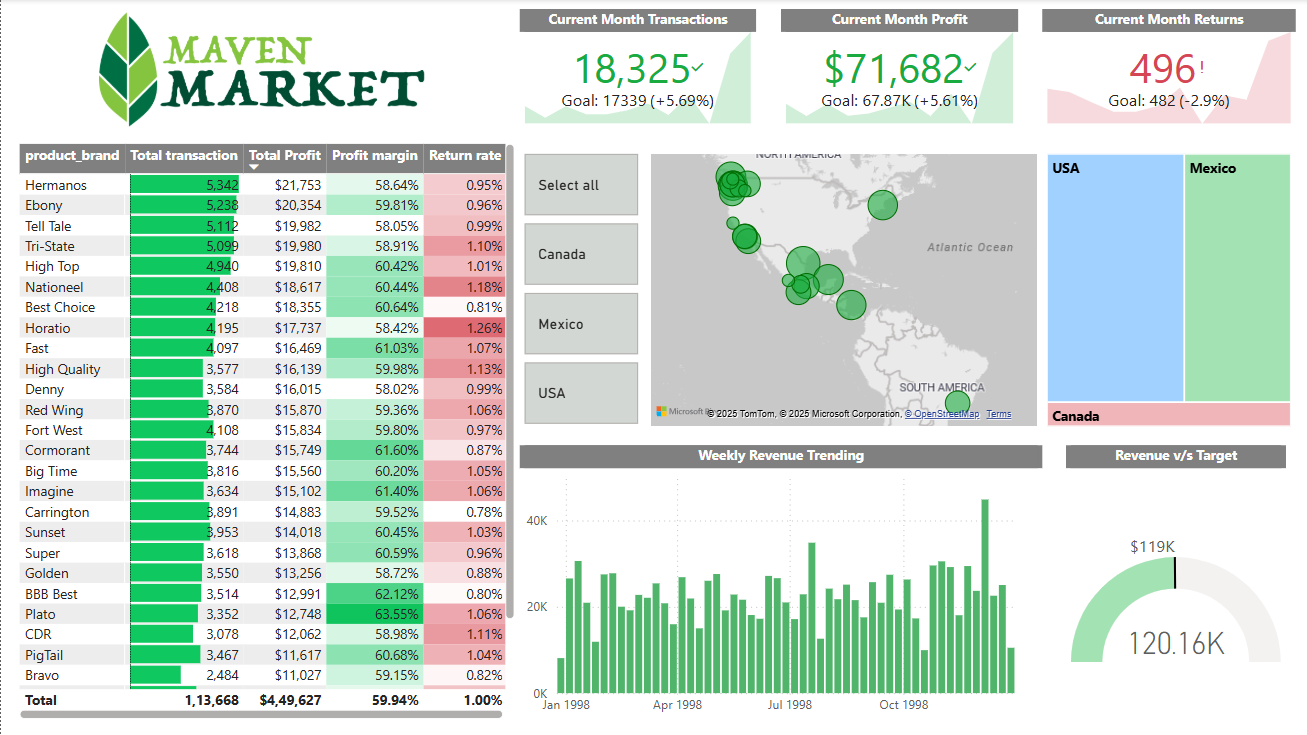

Layout of this report page (visuals, bound fields, positions):
{"tool":"powerbi","page":{"name":"Dashboard","canvas":[1280,720],"ordinal":0},"visuals":[{"type":"pivotTable","fields":{"Rows":["Products.product_brand"],"Values":["Measure(DAX).Total transaction","Measure(DAX).Total Profit","Measure(DAX).Profit margin","Measure(DAX).Return rate"]},"box":[13.5,137,494,572.3],"z":0},{"type":"image","box":[13.5,0,479.4,137],"z":1000},{"type":"kpi","title":"Current Month Transactions ","fields":{"Indicator":["Measure(DAX).Total transaction"],"TrendLine":["Calendar.Start of Month"],"Goal":["Measure(DAX).Last Month Transactions"]},"box":[507.5,9.8,231.1,117.4],"z":2000},{"type":"kpi","title":"Current Month Profit","fields":{"TrendLine":["Calendar.Start of Month"],"Indicator":["Measure(DAX).Total Profit"],"Goal":["Measure(DAX).Last Month Profit"]},"box":[762.4,9.8,232.3,117.4],"z":3000},{"type":"kpi","title":"Current Month Returns","fields":{"TrendLine":["Calendar.Start of Month"],"Indicator":["Measure(DAX).Total Returns"],"Goal":["Measure(DAX).Last Month ReturnsLast Month Returns"]},"box":[1018.6,9.8,248.2,117.4],"z":4000},{"type":"map","title":"Total Transaction by City","fields":{"Size":["Measure(DAX).Total transaction"],"Category":["Stores.store_city"]},"box":[631,146.7,387.6,276.4],"z":5000},{"type":"advancedSlicerVisual","fields":{"Values":["Stores.store_country"]},"box":[507.5,146.7,121.1,276.4],"z":6000},{"type":"treemap","title":"Total Transaction by Country","fields":{"Values":["Measure(DAX).Total transaction"],"Group":["Stores.store_country","Stores.store_state","Stores.store_city"]},"box":[1018.6,146.7,248.2,276.4],"z":7000},{"type":"columnChart","title":"Weekly Revenue Trending","fields":{"Y":["Measure(DAX).Total Revenue"],"Category":["Calendar.Start of Week"]},"box":[507.5,436.6,511.1,272.7],"z":8000},{"type":"gauge","title":"Revenue v/s Target","fields":{"Y":["Measure(DAX).Total Revenue"],"TargetValue":["Measure(DAX).Revenue target"]},"box":[1041.9,436.6,215.2,272.7],"z":9000}]}

Visuals, with their boxes in screenshot pixels (x1, y1, x2, y2), scaled from the page's 1280x720 canvas onto the 1307x735 screenshot:
pivotTable - Products.product_brand x Measure(DAX).Total transaction: locate(14, 140, 518, 724)
image: locate(14, 0, 503, 140)
"Current Month Transactions " kpi: locate(518, 10, 754, 130)
"Current Month Profit" kpi: locate(778, 10, 1016, 130)
"Current Month Returns" kpi: locate(1040, 10, 1294, 130)
"Total Transaction by City" map: locate(644, 150, 1040, 432)
advancedSlicerVisual - Stores.store_country: locate(518, 150, 642, 432)
"Total Transaction by Country" treemap: locate(1040, 150, 1294, 432)
"Weekly Revenue Trending" columnChart: locate(518, 446, 1040, 724)
"Revenue v/s Target" gauge: locate(1064, 446, 1284, 724)
